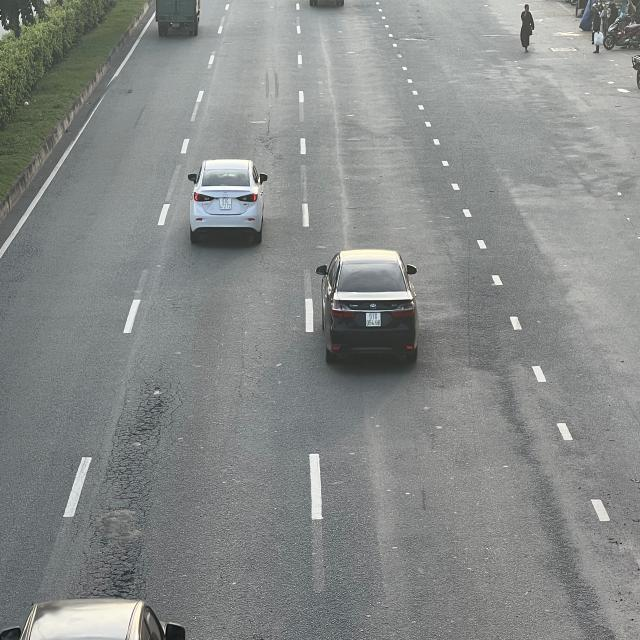car: (317, 249, 419, 367), (188, 160, 268, 246)
truck: (157, 0, 205, 36)
